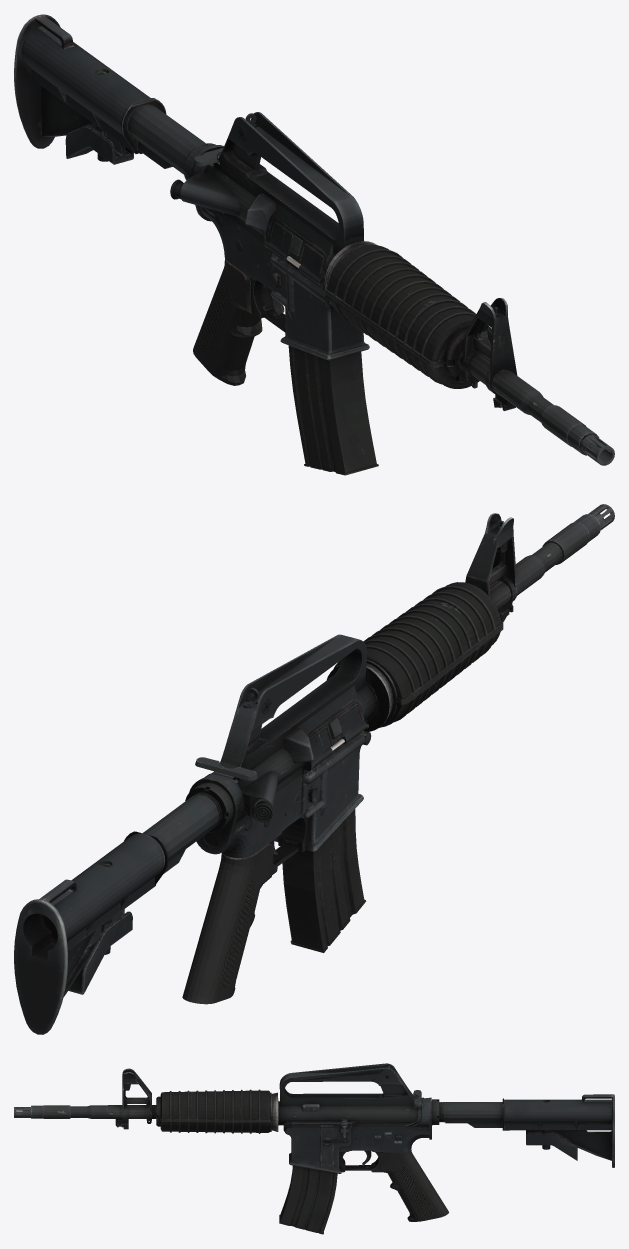
Rendered from weapon002.obj.
3 views of the same model, one above another, from view 1: azimuth 30°, elevation 25°; view 2: azimuth 150°, elevation 25°; view 3: azimuth 270°, elevation 25° (orthographic). The views are drawn at different scales.
Parts seen in each view (by area): view 1: weapon002; view 2: weapon002; view 3: weapon002.
Part boxes in pixels (bbox=[...]): weapon002: bbox=[14, 14, 614, 475]; weapon002: bbox=[14, 504, 614, 1034]; weapon002: bbox=[14, 1063, 614, 1234].
Bounding box in the file's own units: 3.58 × 11.71 × 39.16.
1 material, 1 textured.
